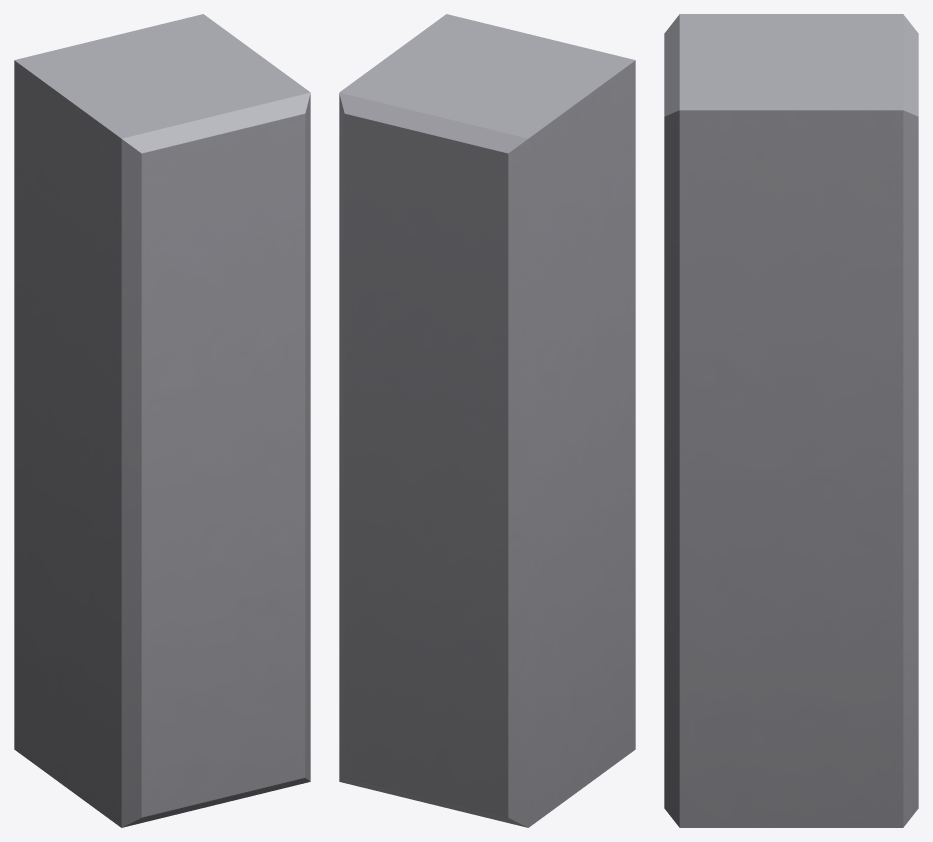
The model's file is I_static.fbx.
The picture shows the model from 3 angles, left to right: view 1: azimuth 30°, elevation 25°; view 2: azimuth 150°, elevation 25°; view 3: azimuth 270°, elevation 25°; orthographic projection. The views are drawn at different scales.
Parts seen in each view (by area): view 1: I_static; view 2: I_static; view 3: I_static.
Part boxes in pixels (<box>): I_static: <box>14,14,310,827</box>; I_static: <box>339,14,635,827</box>; I_static: <box>664,14,918,827</box>.
Bounding box in the file's own units: 29.53 × 103 × 33.
